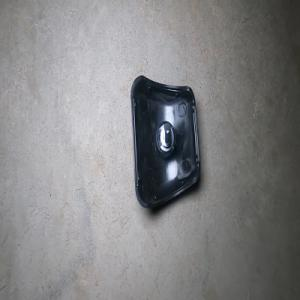LuggagePart: (129, 73, 201, 211)
